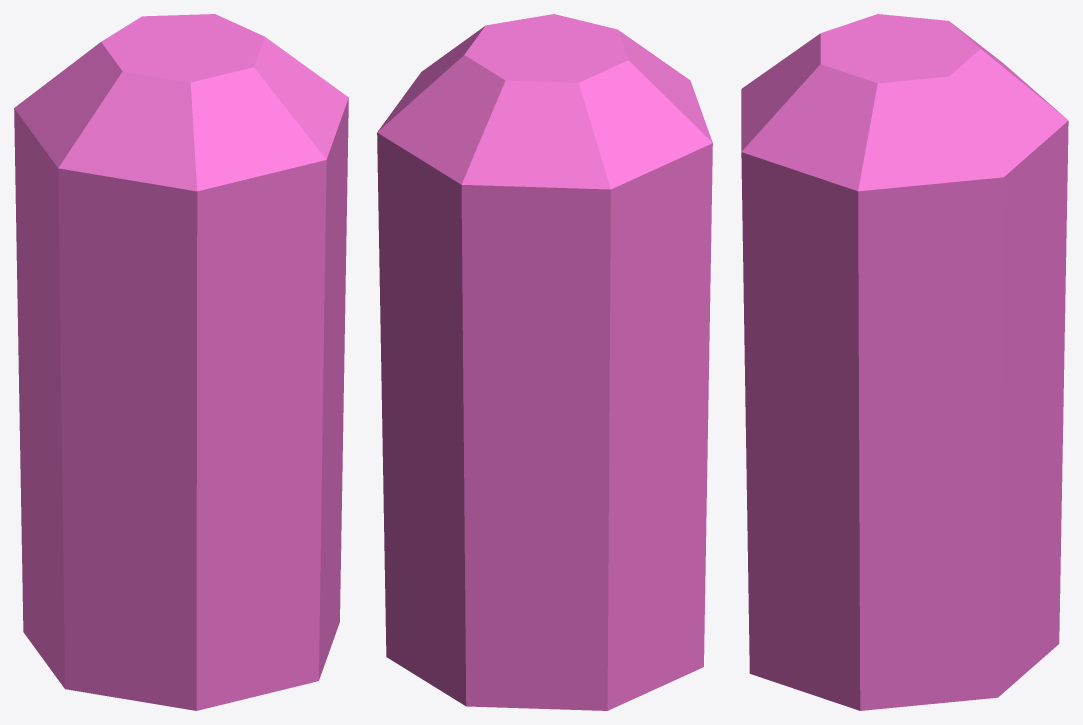
The model's file is Crystal_Pink_A.fbx.
3 renders of one model, left to right at view 1: azimuth 30°, elevation 25°; view 2: azimuth 150°, elevation 25°; view 3: azimuth 270°, elevation 25°, orthographic.
Parts seen in each view (by area): view 1: Crystal_Pink_A; view 2: Crystal_Pink_A; view 3: Crystal_Pink_A.
Boxes of the visible parts, <box> form: Crystal_Pink_A: <box>14,14,348,710</box>; Crystal_Pink_A: <box>377,14,712,710</box>; Crystal_Pink_A: <box>741,14,1068,710</box>.
Size of the model in its own units: 74.54 by 146 by 72.67.
